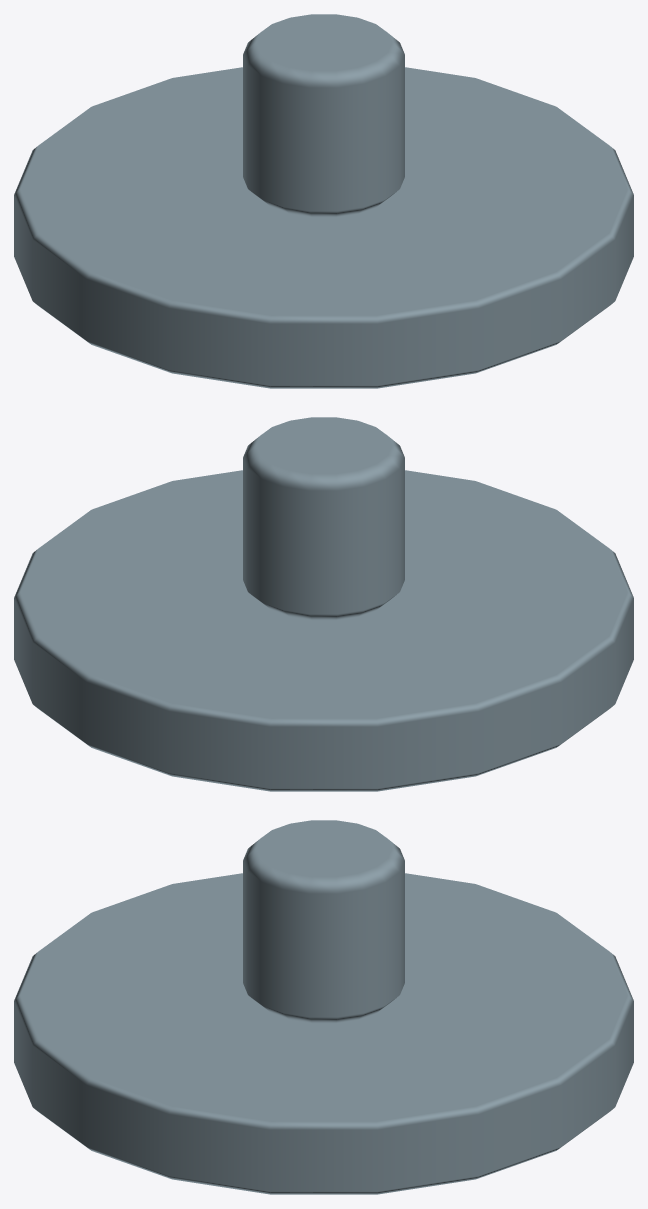
Rendered from fx-steam.b054f6f9.glb.
3 renders of one model, top to bottom at view 1: azimuth 30°, elevation 25°; view 2: azimuth 150°, elevation 25°; view 3: azimuth 270°, elevation 25°, orthographic.
Visible parts, largest first — view 1: body; view 2: body; view 3: body.
Part boxes in pixels (x1,y1,x2,y2): body: (14,14,633,388); body: (14,417,633,791); body: (14,820,633,1194).
Bounding box in the file's own units: 0.453 × 0.18 × 0.46.
